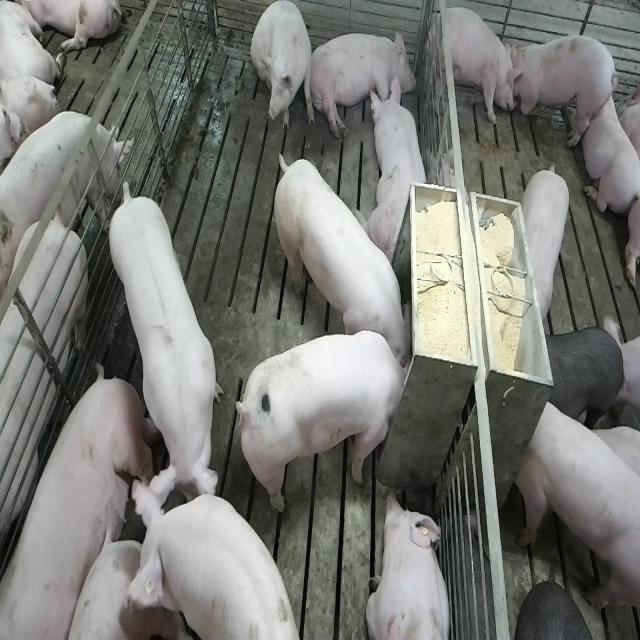Feeding: (244, 329, 418, 516), (270, 146, 411, 364)
Lateral_lying: (3, 365, 158, 640), (307, 27, 417, 140)
Sitting: (251, 2, 315, 138)
Standing: (103, 180, 221, 521), (0, 212, 90, 628), (116, 475, 298, 640), (516, 394, 638, 612), (0, 108, 126, 277), (510, 31, 616, 149), (432, 5, 519, 130), (546, 318, 626, 427), (521, 160, 573, 324)
Sternal_lying: (365, 490, 453, 640), (361, 76, 431, 262), (579, 81, 639, 213)
